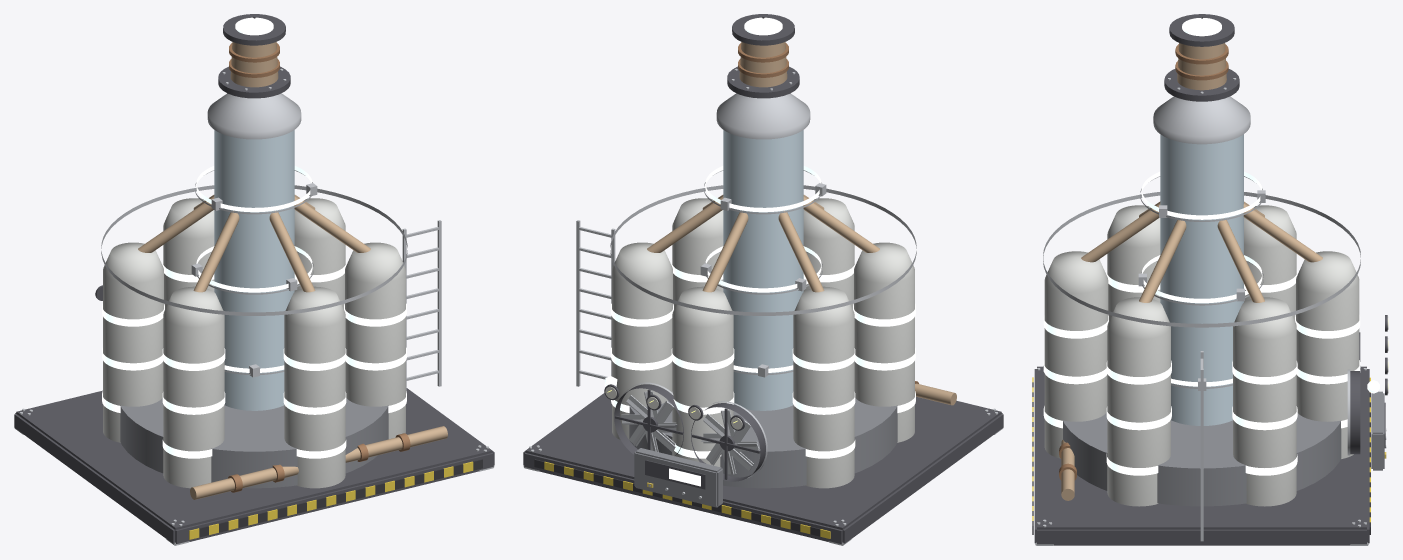
File: decon_3.fbx
The picture shows the model from 3 angles, left to right: view 1: azimuth 30°, elevation 25°; view 2: azimuth 150°, elevation 25°; view 3: azimuth 270°, elevation 25°; orthographic projection. The views are drawn at different scales.
Parts seen in each view (by area): view 1: decon_3, Spin_Y_Ring2, Spin_Y_Ring1; view 2: decon_3, Spin_Z_Fan0, Spin_Z_Fan1, Spin_Y_Ring2, Spin_Y_Ring1; view 3: decon_3, Spin_Y_Ring2, Spin_Y_Ring1, Spin_Y_Ring0.
Boxes of the visible parts, left/top/right/bottom form: decon_3: left=14, top=14, right=494, bottom=545; Spin_Y_Ring2: left=195, top=166, right=317, bottom=214; Spin_Y_Ring1: left=191, top=246, right=313, bottom=294; decon_3: left=523, top=14, right=1003, bottom=545; Spin_Z_Fan0: left=701, top=410, right=759, bottom=474; Spin_Z_Fan1: left=621, top=391, right=677, bottom=452; Spin_Y_Ring2: left=704, top=166, right=826, bottom=214; Spin_Y_Ring1: left=700, top=246, right=822, bottom=294; decon_3: left=1032, top=14, right=1388, bottom=545; Spin_Y_Ring2: left=1140, top=171, right=1265, bottom=221; Spin_Y_Ring1: left=1138, top=255, right=1263, bottom=305; Spin_Y_Ring0: left=1171, top=378, right=1232, bottom=390.
Size of the model in its own units: 4.97 by 5.91 by 4.26.
